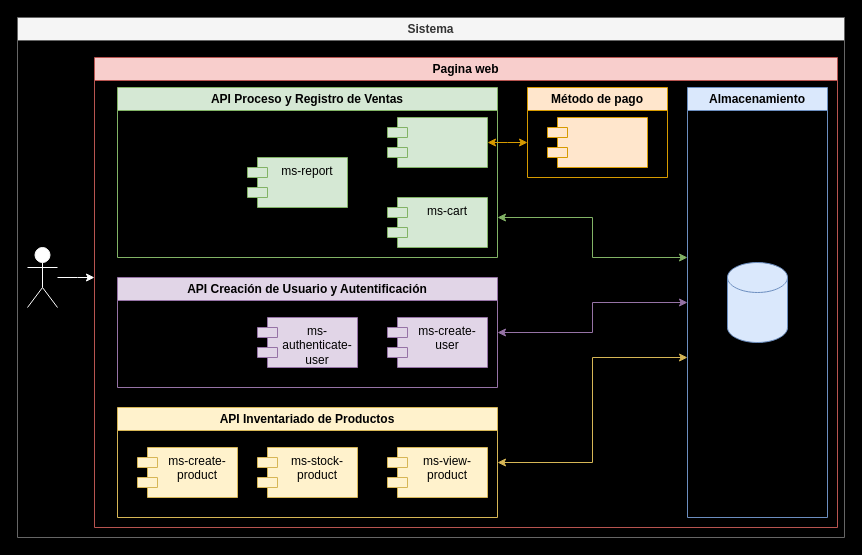
This 862x555 diagram has some shape labels left out. The centre of each missing label's shape, as x and y in pixels:
"BD" belongs at [757,302].
"Cliente" belongs at [42,277].
"ms-pay" belongs at [437,142].
"ms-webpay" belongs at [597,142].
